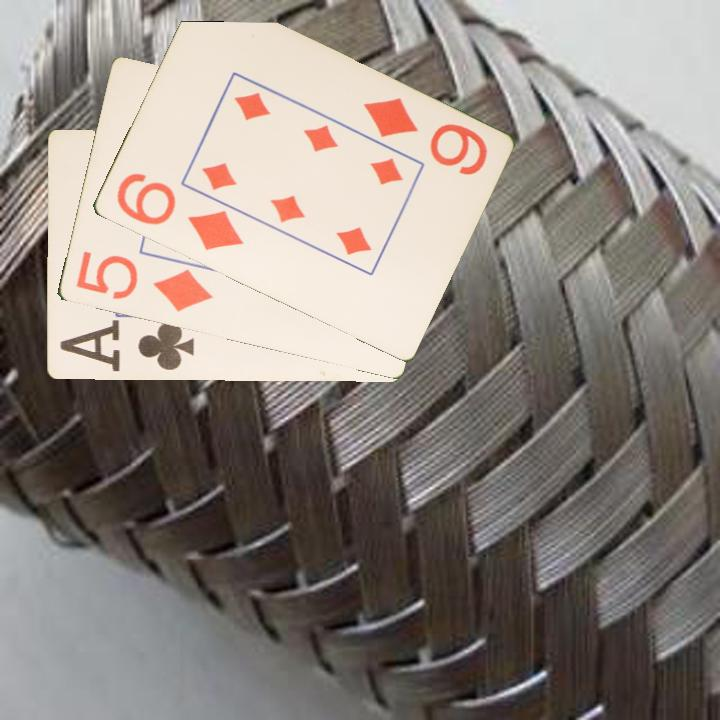5d: (72, 248, 216, 316)
6d: (112, 169, 246, 254), (359, 94, 490, 179)
Ac: (56, 319, 197, 376)
